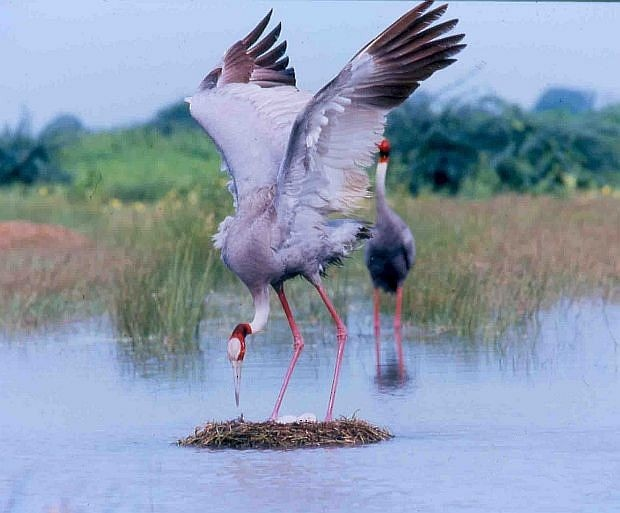crane: (181, 3, 370, 426), (374, 134, 421, 337)
